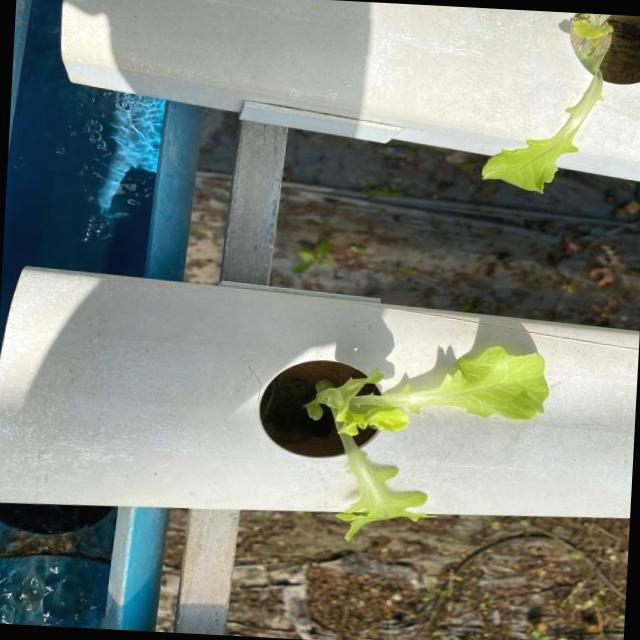Lettuce-Not-Ready-to-Harvest: (305, 347, 549, 540), (482, 13, 613, 192)
